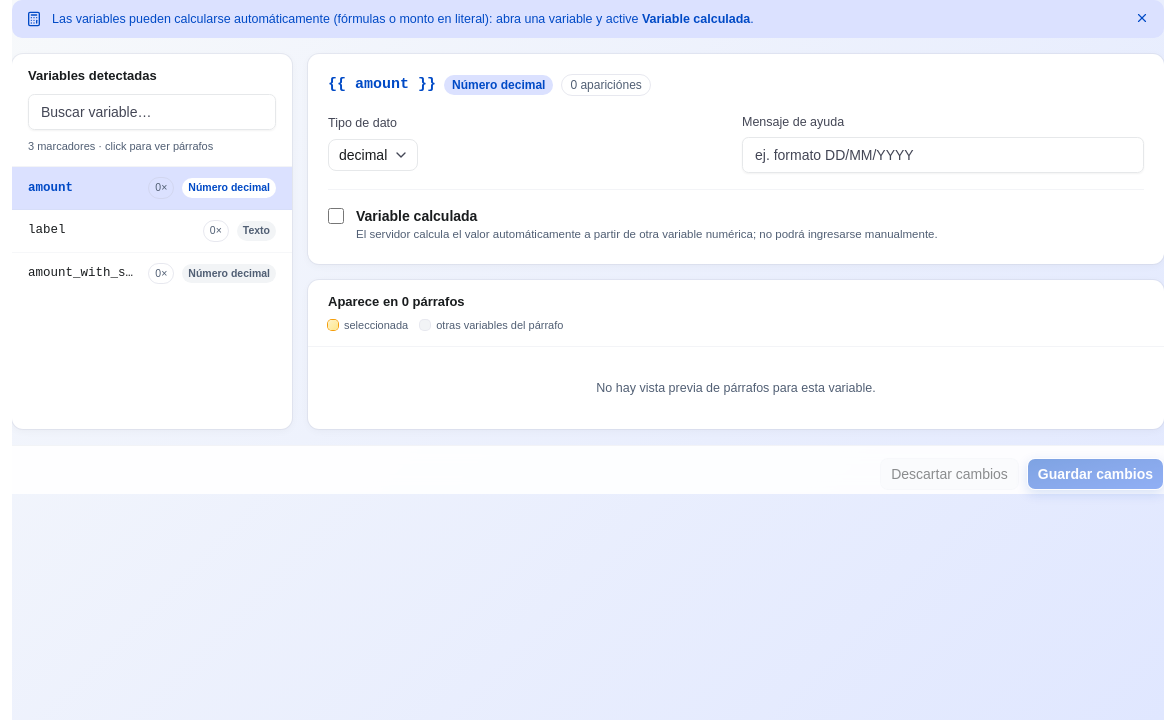
Scenario: VariablesTab — computed configuration UI › only offers numeric, non-computed variables as a computed source
Click the text "amount_with_surcharge" at (84, 274), box 28,264 -> 140,283
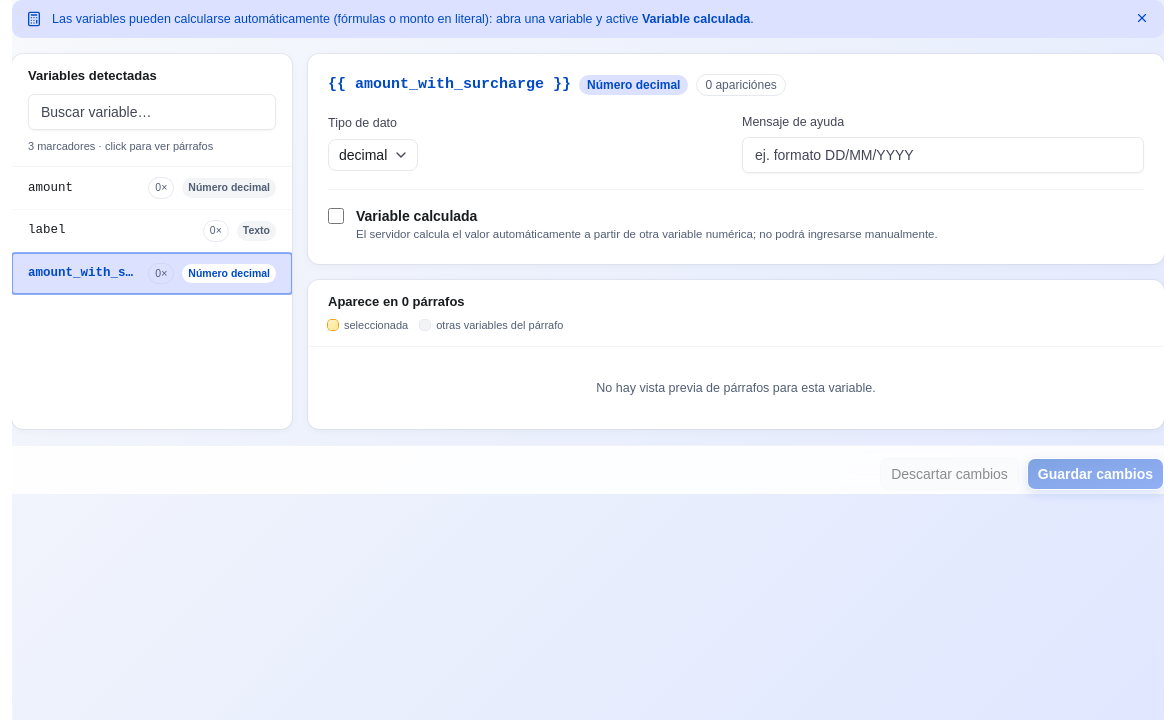
Click the checkbox labelled "Variable calculada" at (336, 216), box 328,208 -> 344,224
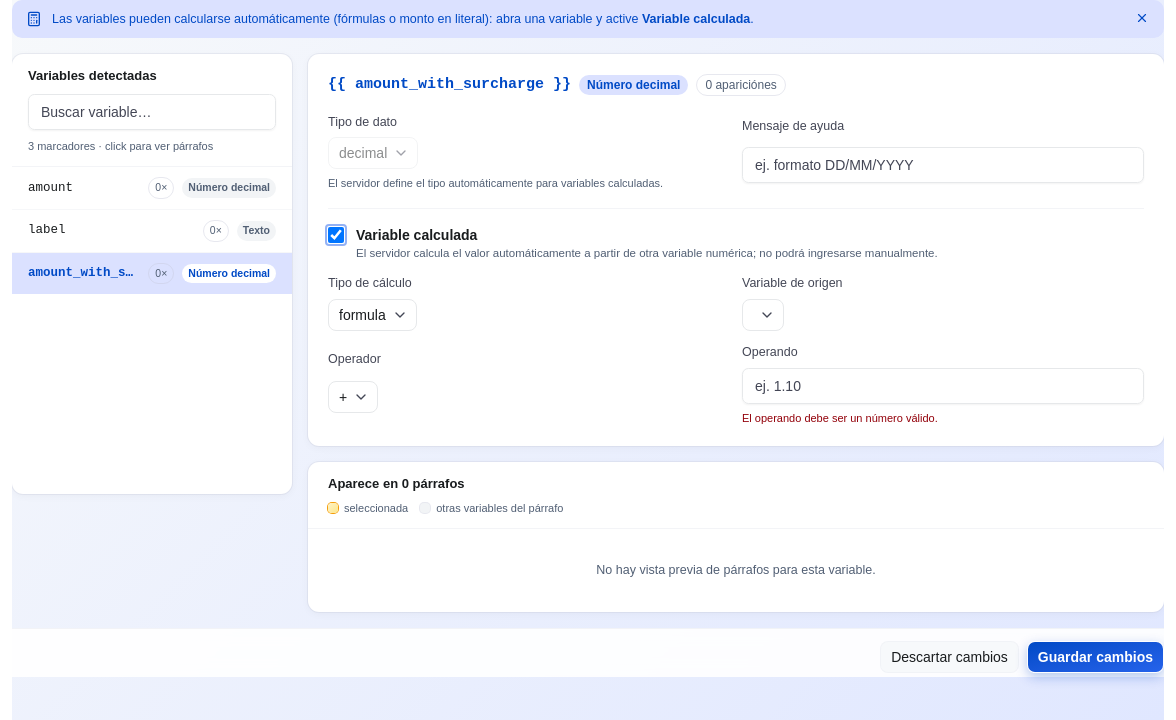
Click the dropdown labelled "▼" at (763, 315), box 742,299 -> 784,331
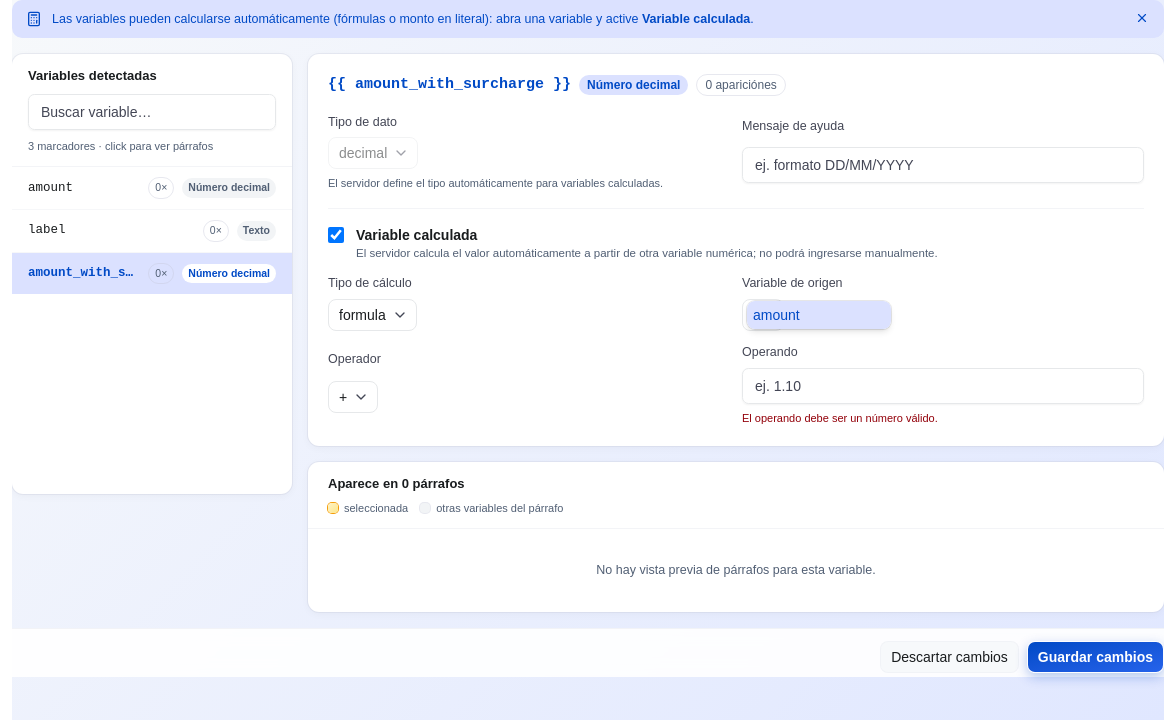
Expected: the option "amount" is shown, 747,301 -> 891,329
